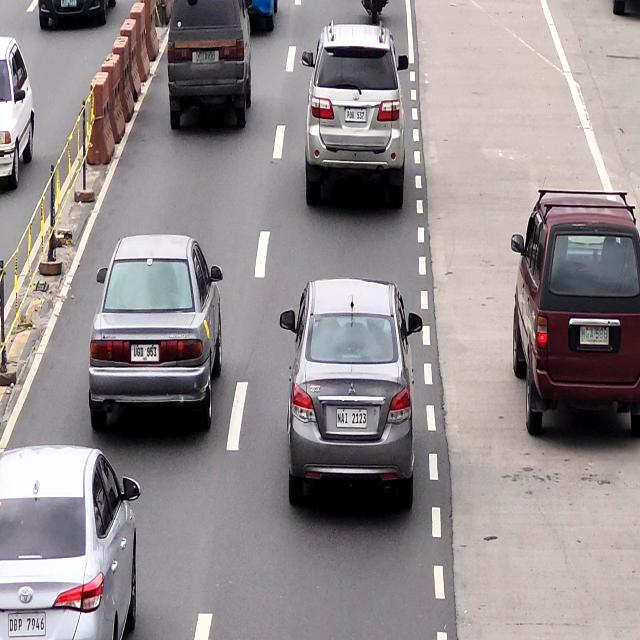Car: (514, 195, 640, 428), (286, 280, 408, 510), (0, 447, 135, 640), (91, 233, 217, 429), (308, 28, 406, 215), (166, 0, 252, 128)
License-Plate: (8, 611, 45, 637), (334, 407, 368, 429), (131, 342, 160, 364), (581, 324, 609, 346), (346, 108, 367, 126), (195, 48, 216, 64)
